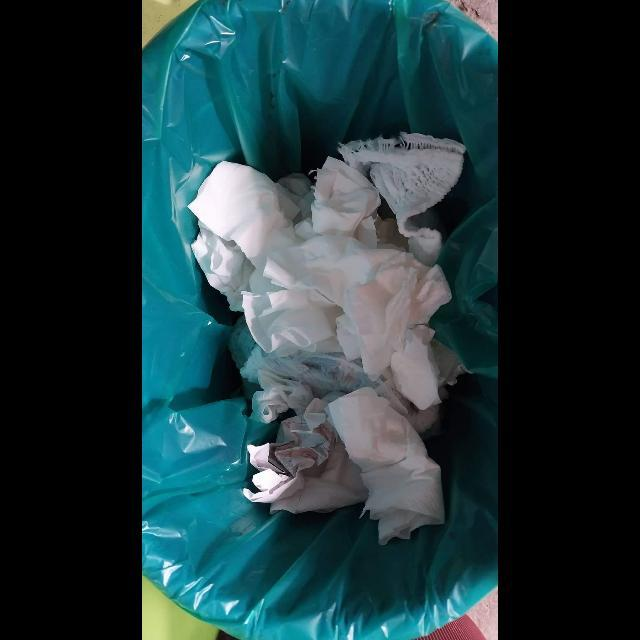paper: (263, 235, 452, 410), (324, 387, 445, 545), (188, 160, 302, 276), (243, 397, 339, 503), (242, 289, 345, 357), (191, 219, 256, 311), (311, 156, 381, 237)
